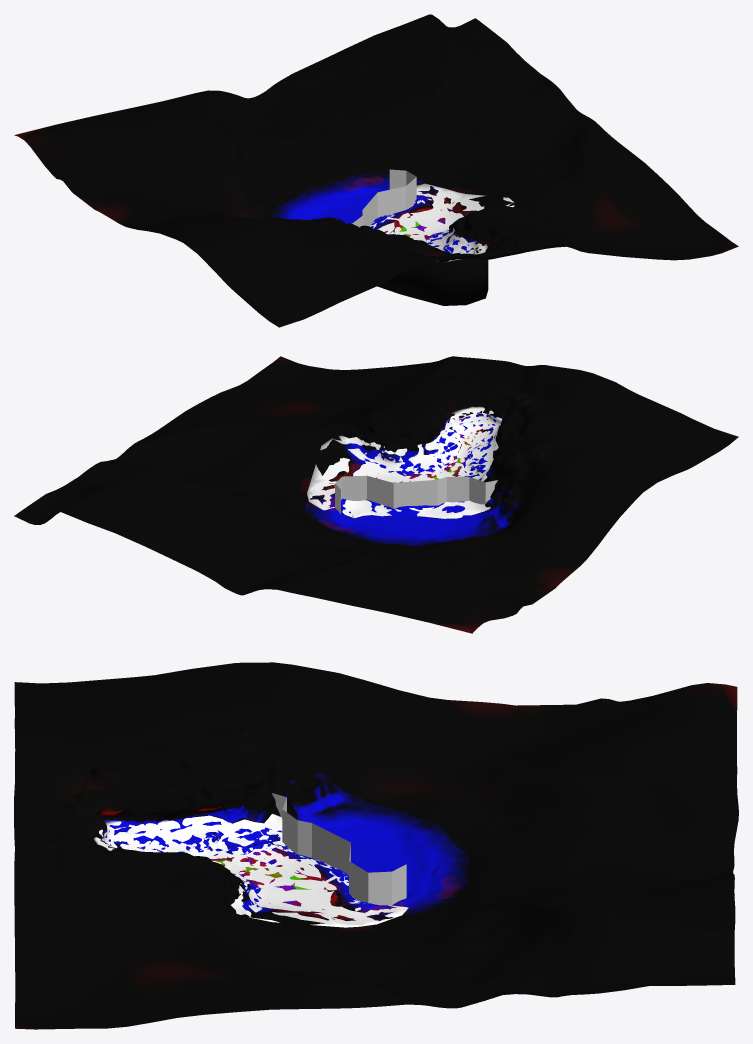
The model's file is Terrain_01_Mesh.fbx.
The picture shows the model from 3 angles, top to bottom: view 1: azimuth 30°, elevation 25°; view 2: azimuth 150°, elevation 25°; view 3: azimuth 270°, elevation 25°; orthographic projection. The views are drawn at different scales.
Parts seen in each view (by area): view 1: Terrain_01, Terrain_01_COL, Terrain_01_COL_2; view 2: Terrain_01, Terrain_01_COL, Terrain_01_COL_2; view 3: Terrain_01, Terrain_01_COL, Terrain_01_COL_2.
Part boxes in pixels (x1=…): Terrain_01: x1=14, y1=14, x2=738, y2=327; Terrain_01_COL: x1=370, y1=183, x2=514, y2=305; Terrain_01_COL_2: x1=351, y1=169, x2=416, y2=227; Terrain_01: x1=14, y1=356, x2=738, y2=633; Terrain_01_COL: x1=307, y1=406, x2=502, y2=518; Terrain_01_COL_2: x1=335, y1=475, x2=497, y2=514; Terrain_01: x1=14, y1=662, x2=738, y2=1029; Terrain_01_COL: x1=93, y1=800, x2=408, y2=927; Terrain_01_COL_2: x1=272, y1=793, x2=406, y2=905.
Size of the model in its own units: 21659 by 3520 by 21671.
